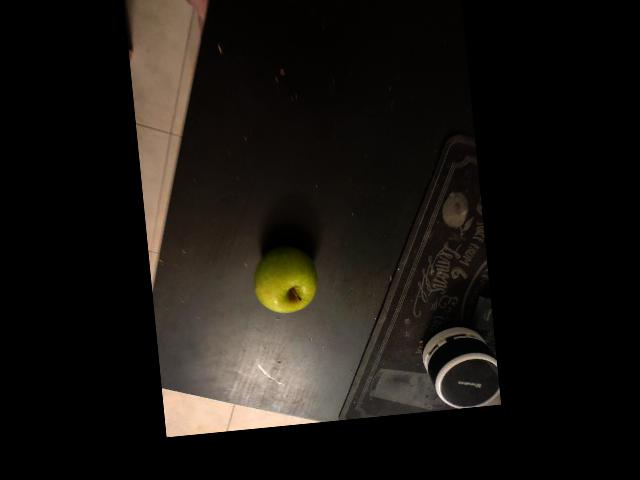apple: (297, 242, 383, 321)
